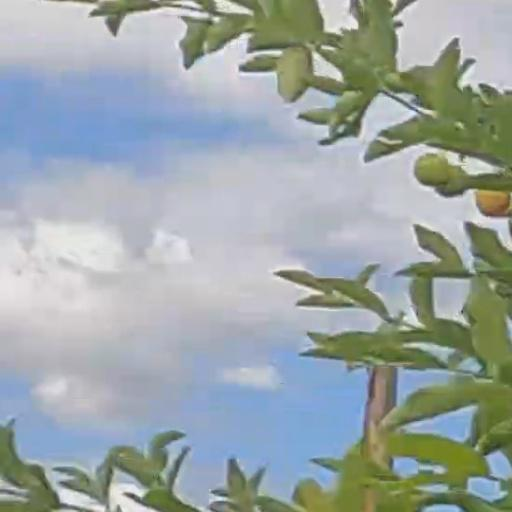acerola_verde: (415, 151, 449, 184)
acerola_vermelha: (479, 188, 508, 217)
